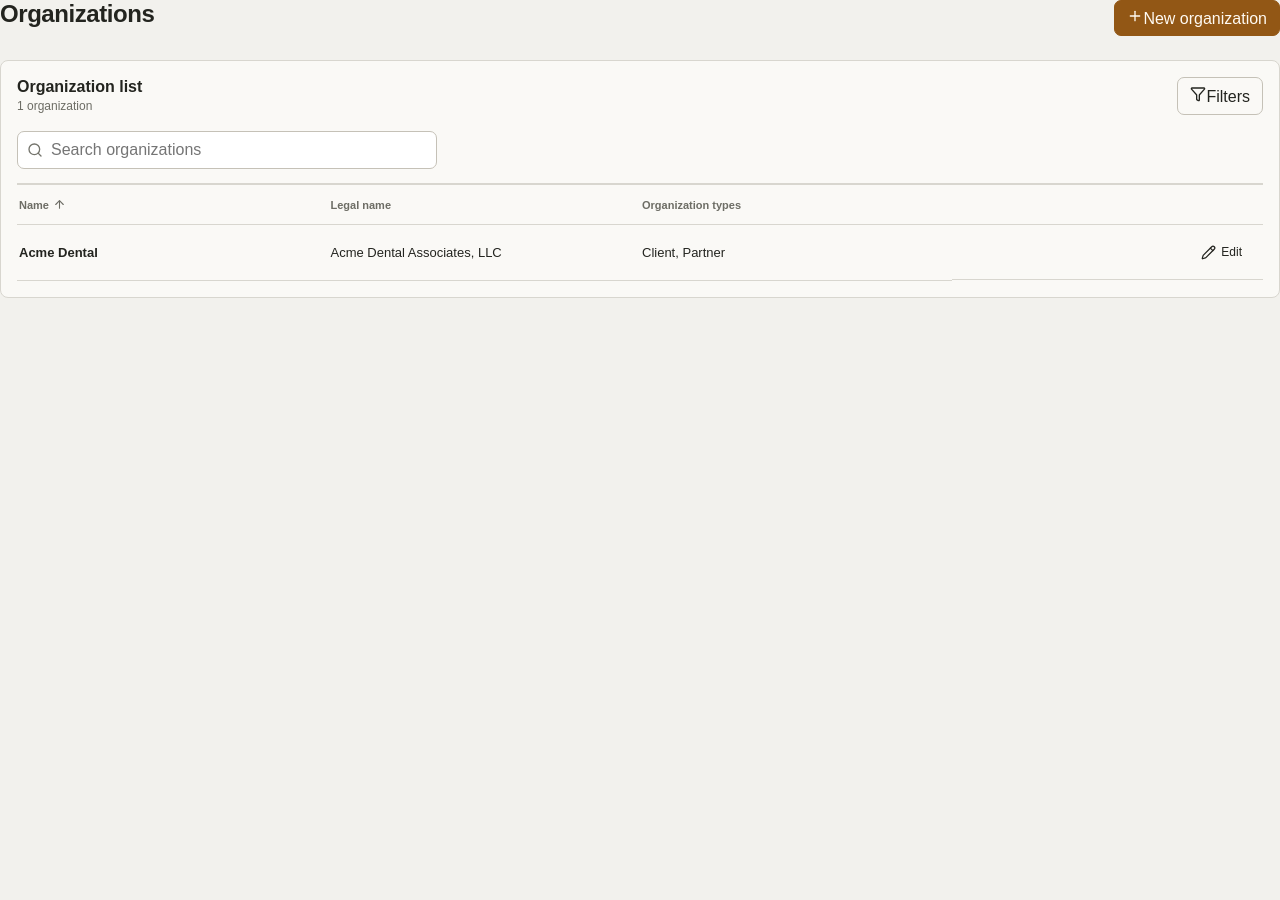
Organizations › updates and archives with an explicit confirmation
Step 1. Click the button with aria-label "Edit Acme Dental" → click(1222, 252), box left=1192, top=236, right=1251, bottom=268
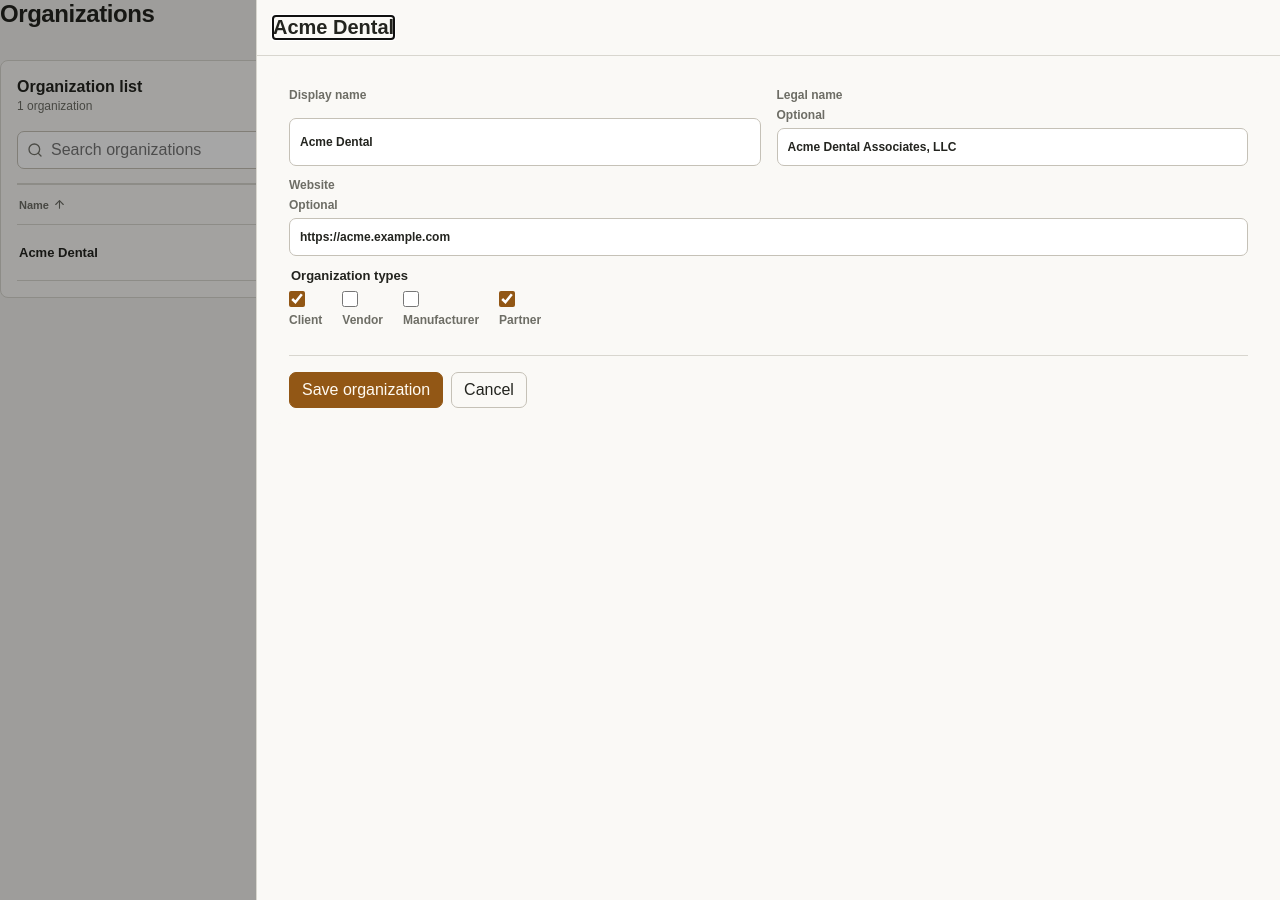
Step 2. Replace the text in the field labelled "Display name" with "Acme Health" → (525, 142), box left=289, top=118, right=760, bottom=166
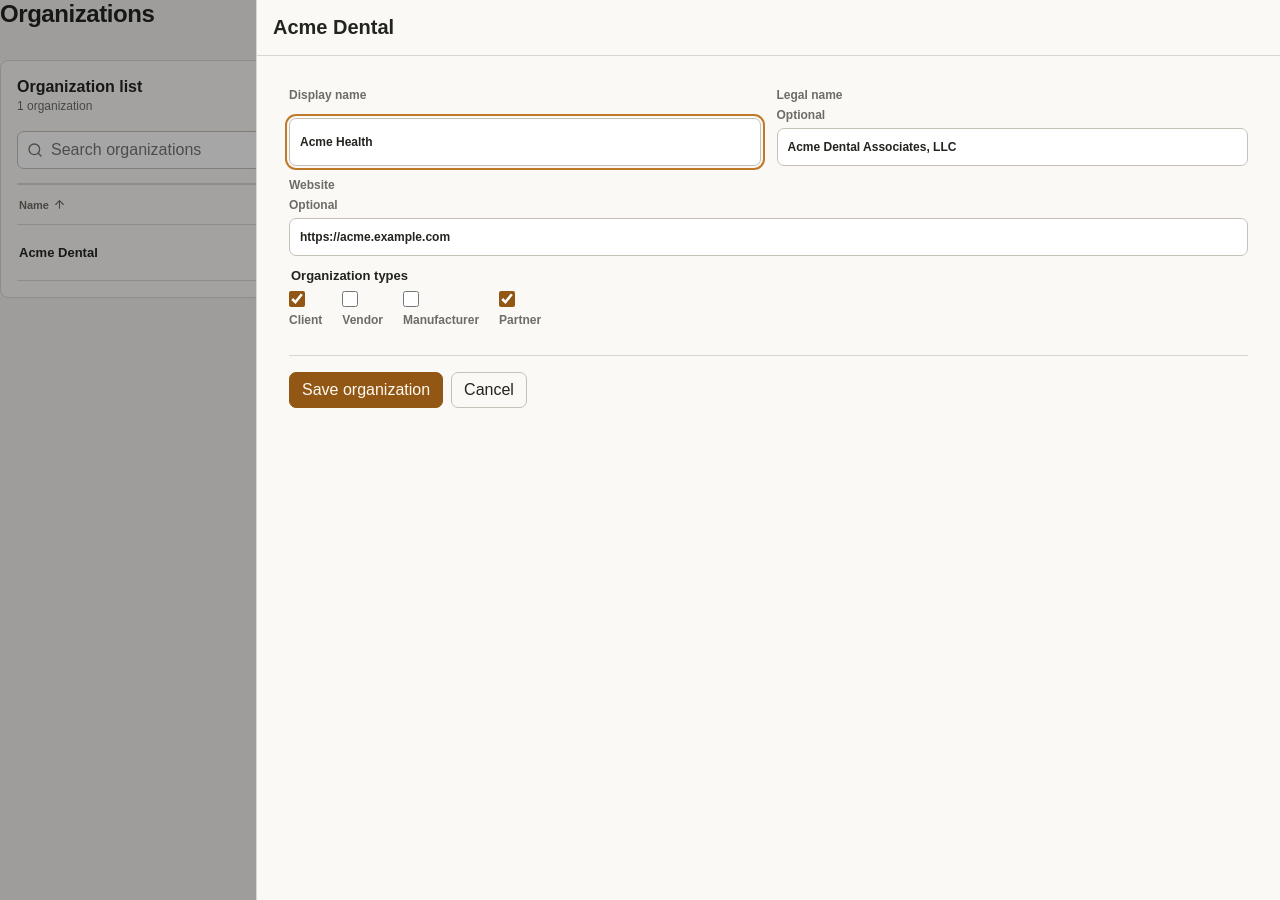
Step 3. Click the button "Save organization" → click(366, 390), box left=289, top=372, right=443, bottom=408
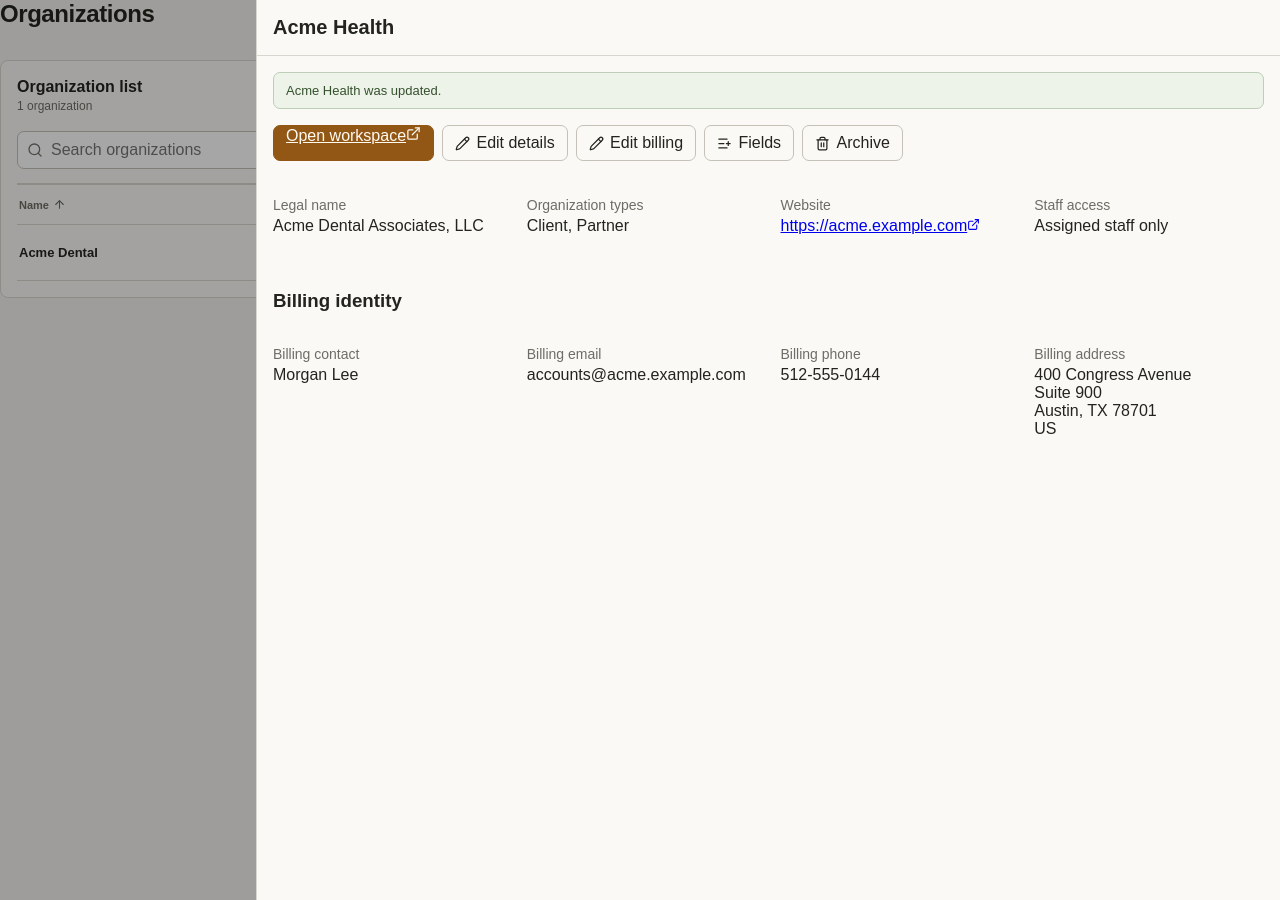
Now the message reads "Acme Health was updated.", box left=286, top=83, right=441, bottom=98
Step 4. Click the button "Archive" → click(852, 143), box left=802, top=125, right=903, bottom=161
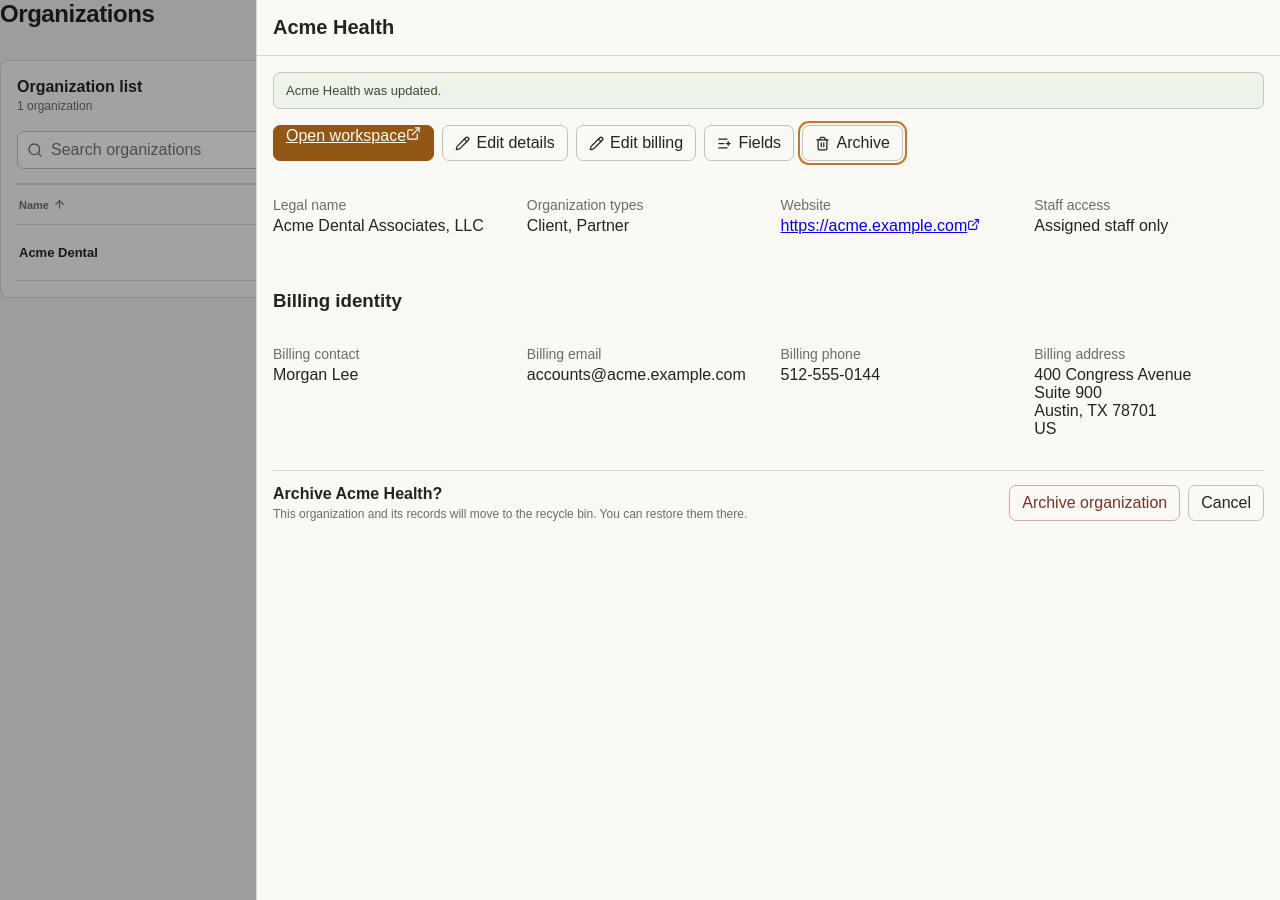
Now the dialog "Archive Acme Health?" is shown, box left=273, top=470, right=1264, bottom=521
Step 5. Click the button "Archive organization" → click(1095, 503), box left=1009, top=485, right=1180, bottom=521
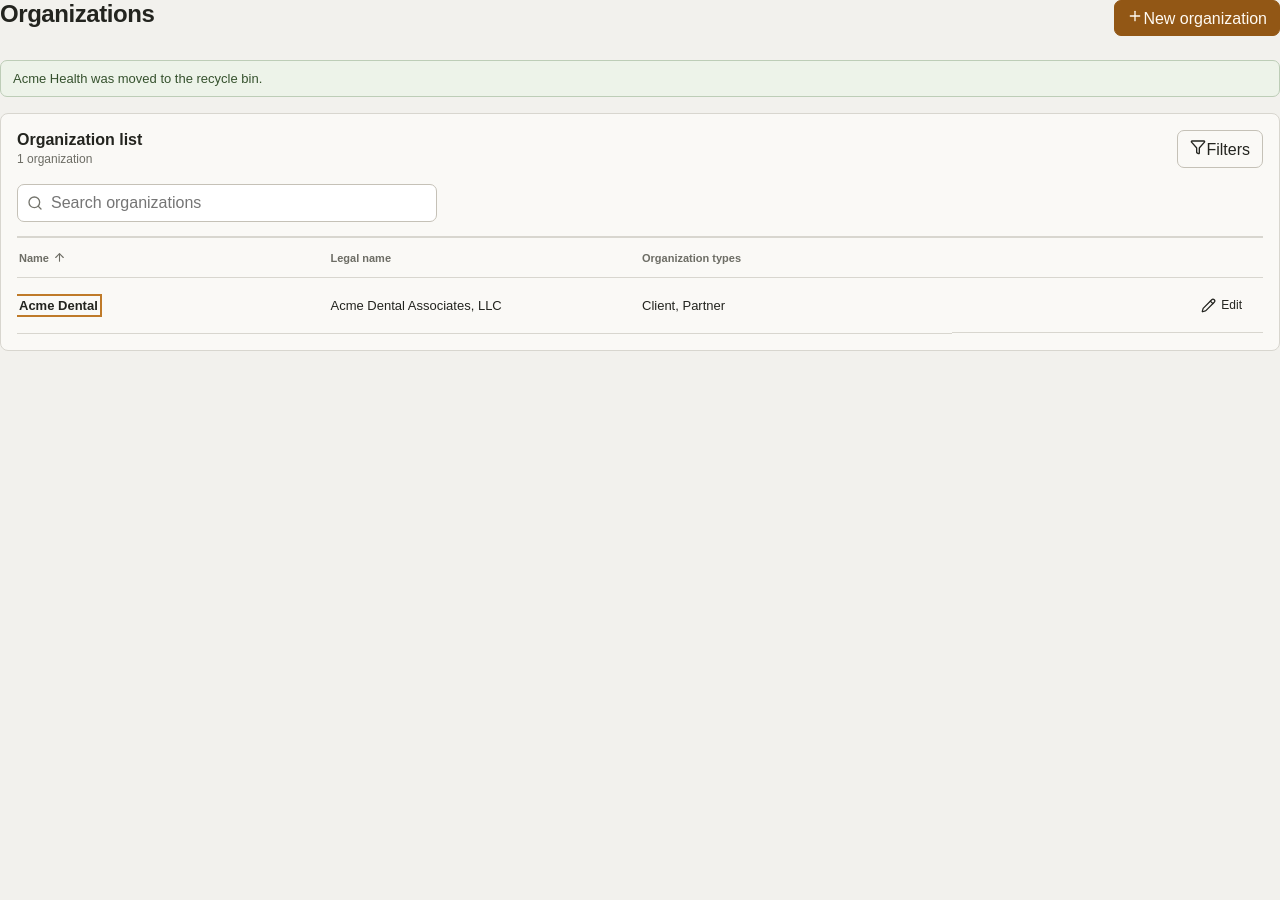
Now the message reads "Acme Health was moved to the recycle bin.", box left=13, top=71, right=262, bottom=86
